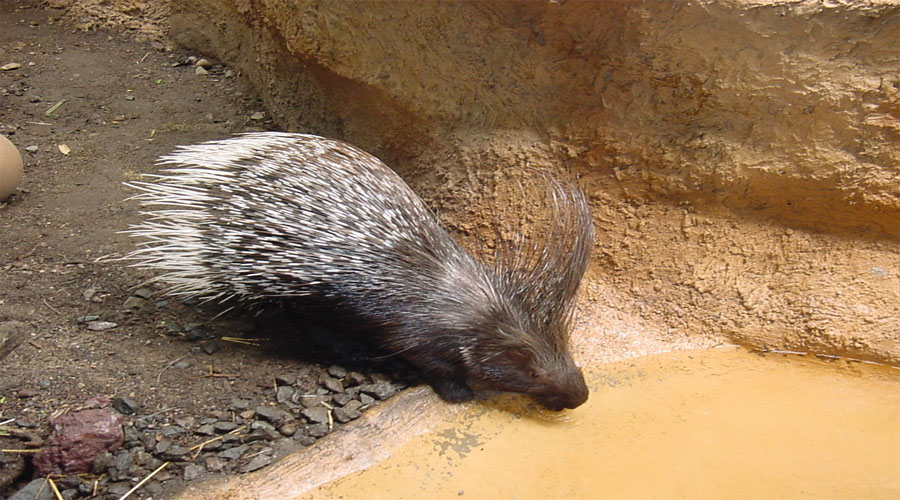porcupine: (114, 103, 604, 431)
